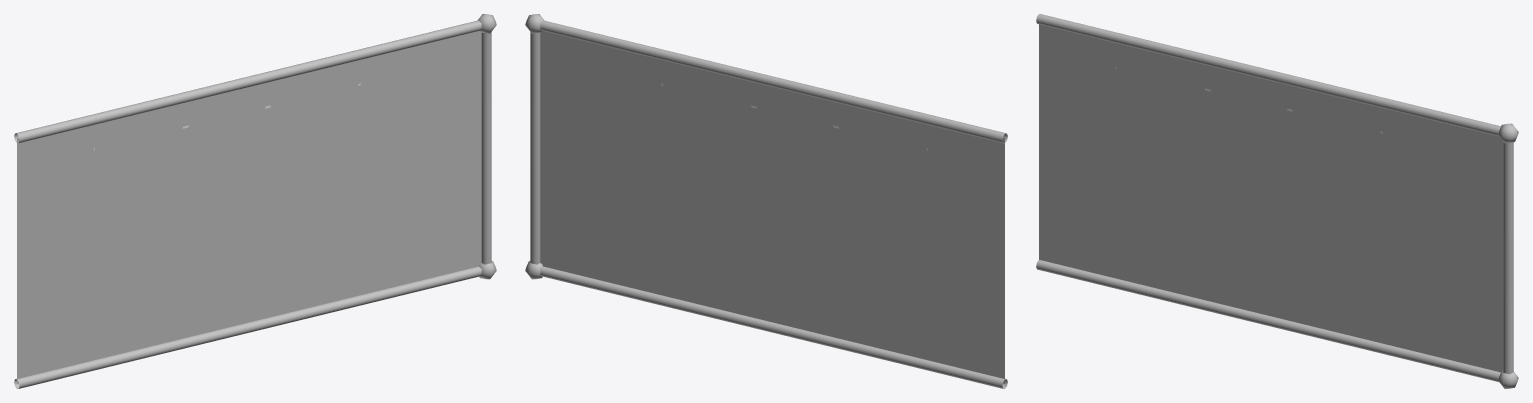
File: Half Fence.FBX
The picture shows the model from 3 angles, left to right: view 1: azimuth 30°, elevation 25°; view 2: azimuth 150°, elevation 25°; view 3: azimuth 330°, elevation 25°; orthographic projection.
Visible parts, largest first — view 1: Plane001, Plane002; view 2: Plane001, Plane002; view 3: Plane001, Plane002.
Part boxes in pixels (left/top/right/bottom): Plane001: left=17, top=31, right=481, bottom=383; Plane002: left=14, top=14, right=496, bottom=388; Plane001: left=540, top=31, right=1004, bottom=383; Plane002: left=525, top=14, right=1007, bottom=388; Plane001: left=1039, top=24, right=1502, bottom=372; Plane002: left=1036, top=14, right=1518, bottom=388.
Size of the model in its own units: 161 by 85.04 by 6.3.
Materials: 2 (2 with a texture image).
